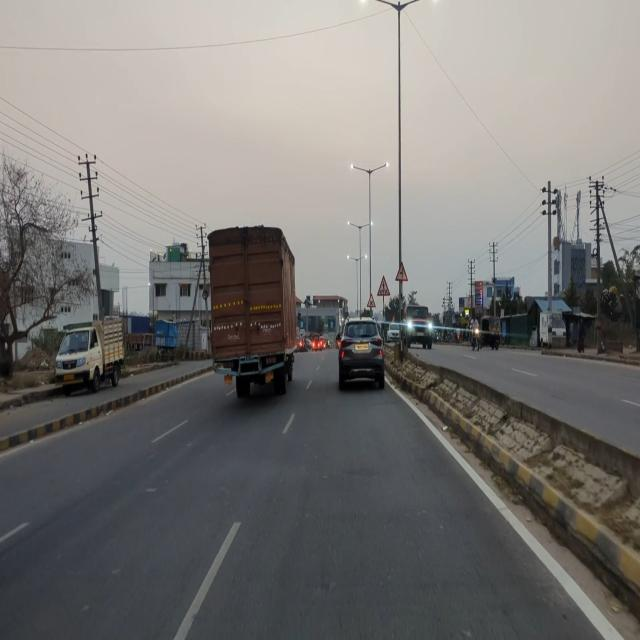bien_cam: (394, 260, 408, 282), (377, 275, 390, 296), (366, 293, 376, 308)
